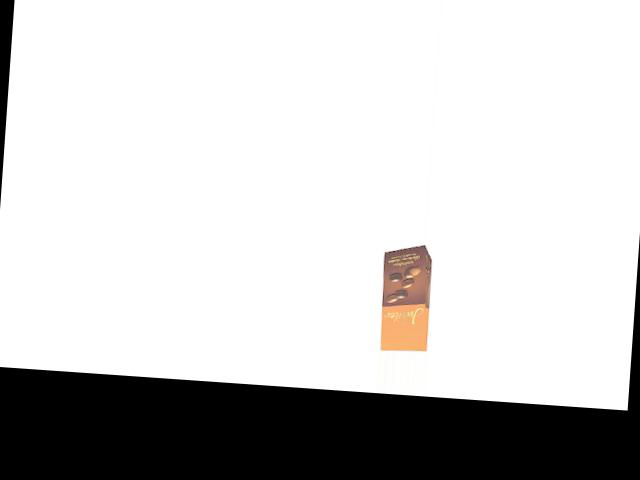chocolate: (371, 243, 436, 352)
